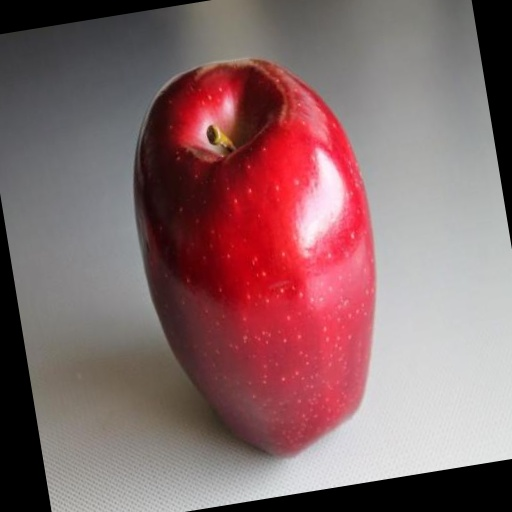fruit: (134, 60, 375, 455)
